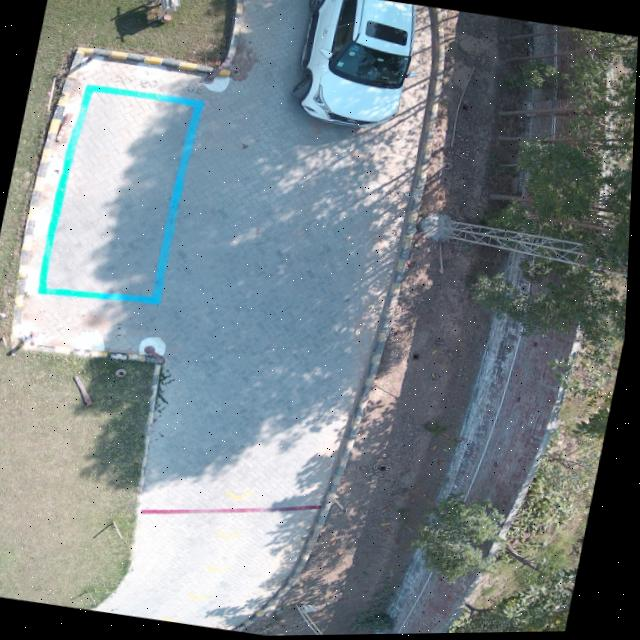car: (294, 0, 415, 128)
